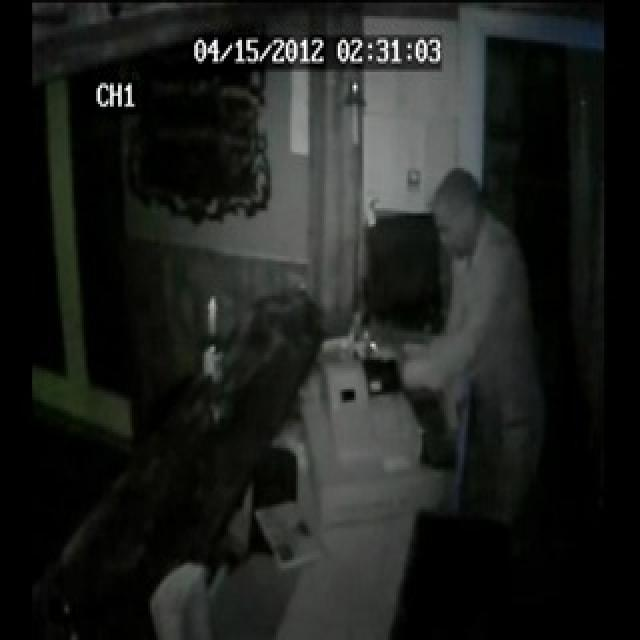thief: (430, 176, 490, 276)
